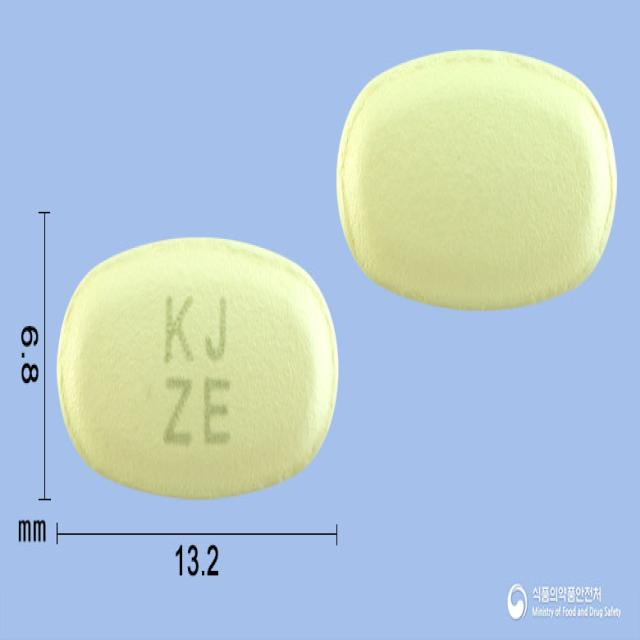Zecla Tab: (56, 234, 340, 499)
